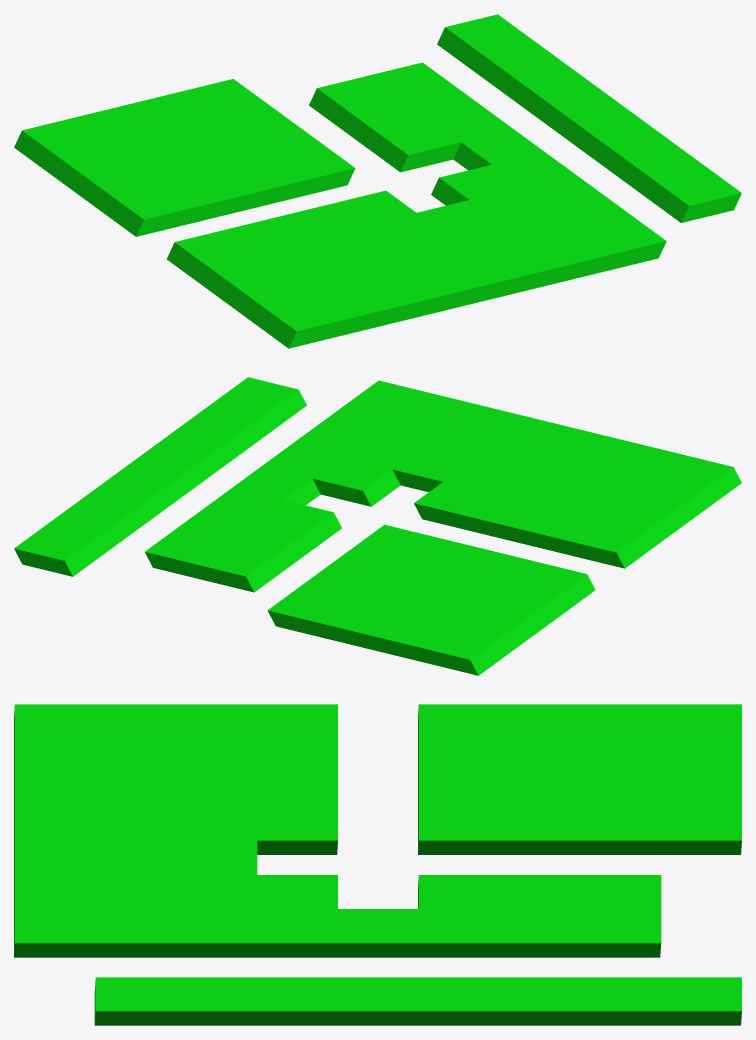
File: Lever Maze 1.fbx
3 views of the same model, one above another, from view 1: azimuth 30°, elevation 25°; view 2: azimuth 150°, elevation 25°; view 3: azimuth 270°, elevation 25° (orthographic). The views are drawn at different scales.
Parts seen in each view (by area): view 1: Plane; view 2: Plane; view 3: Plane.
Boxes of the visible parts, box(x1,y1,x2,y2) form: Plane: box(14, 14, 741, 348); Plane: box(14, 377, 741, 675); Plane: box(14, 704, 741, 1025).
Size of the model in its own units: 203 by 5.99 by 200.
